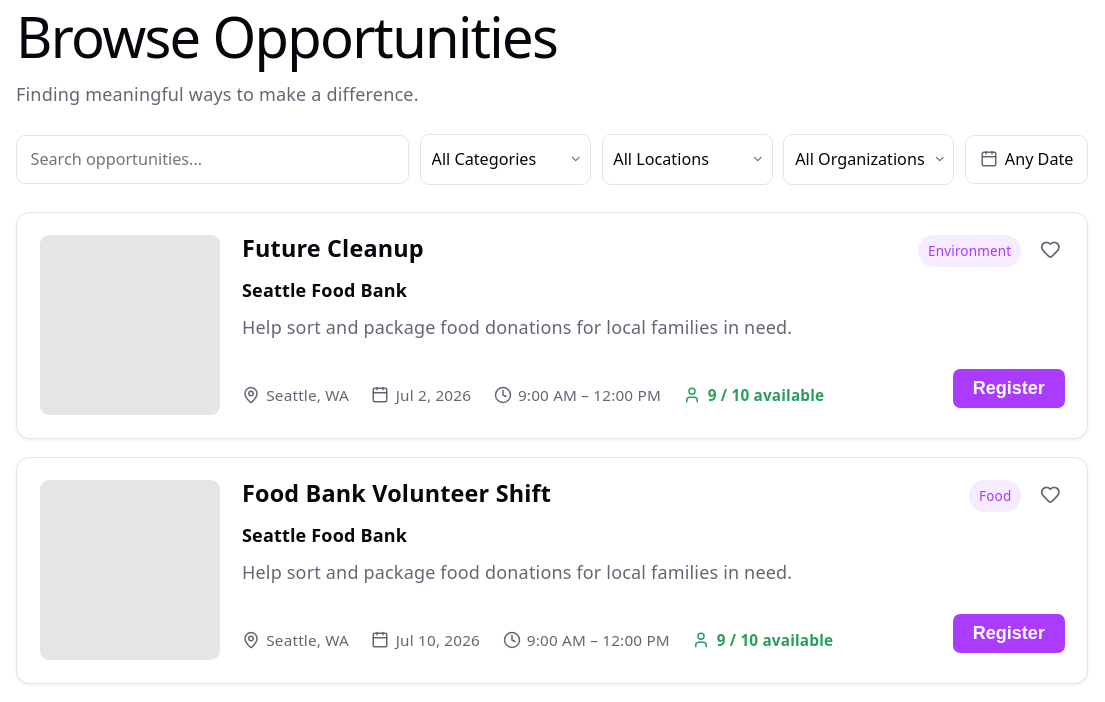
Test case: OpportunitiesPage › expired opportunities › combines expiration filtering with the category filter
Expected: the heading "Food Bank Volunteer Shift" is shown, x1=242 y1=480 x2=551 y2=506
Select "Environment" in the dropdown named "Filter by category" at (505, 159), box x1=420 y1=134 x2=591 y2=185
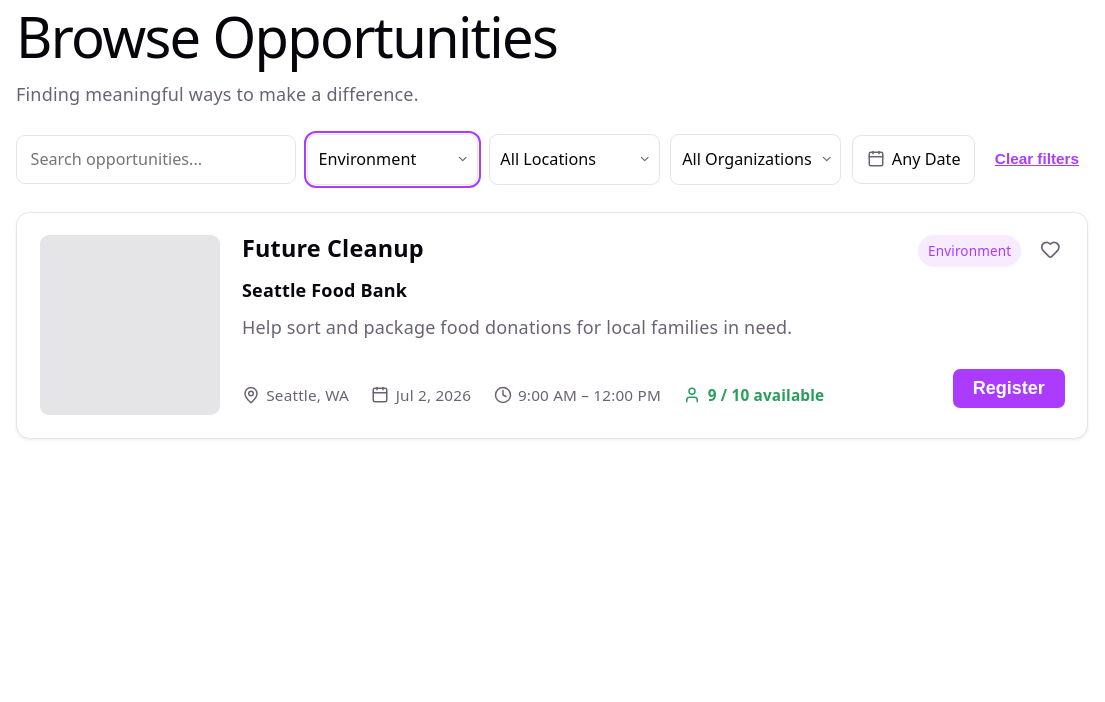
Expected: the heading "Future Cleanup" is shown, x1=242 y1=235 x2=424 y2=261
Expected: the heading "Food Bank Volunteer Shift" is gone
